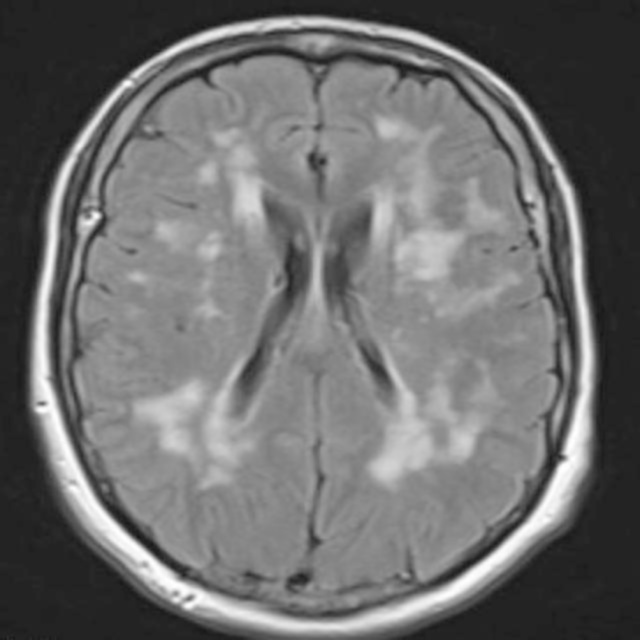glioma tumor: (132, 78, 490, 544)
